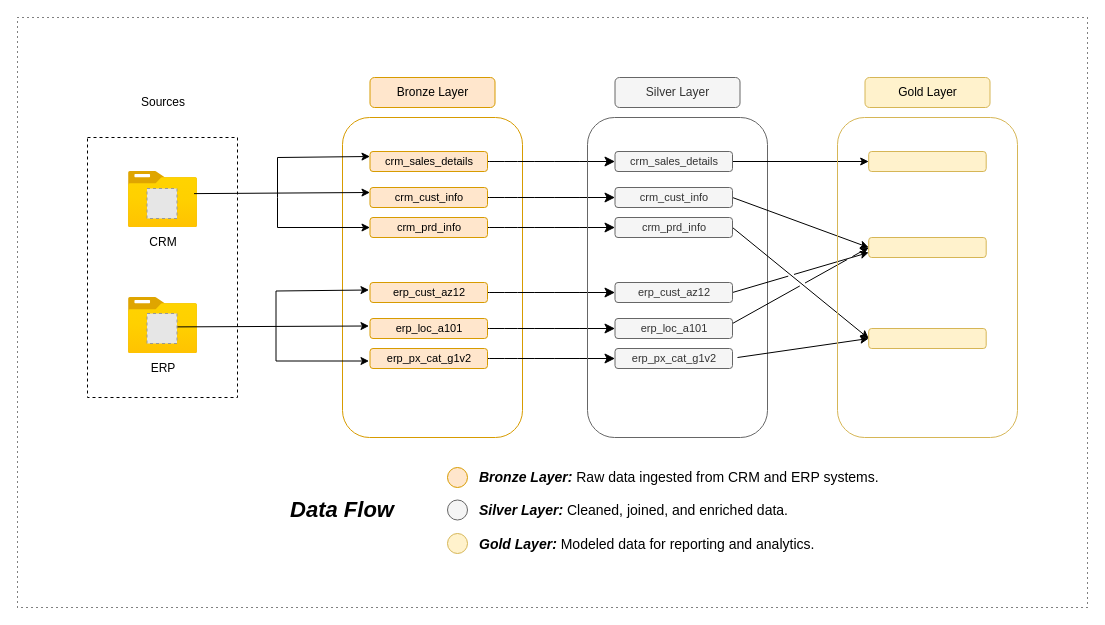
This 1105x625 diagram has some shape labels left out. Grey dashed boxes stand in for pictures. Each missing label, with the centre of its shape:
dim_customers: the point at 927,247
dim_products: the point at 927,338
fact_sales: the point at 927,161
